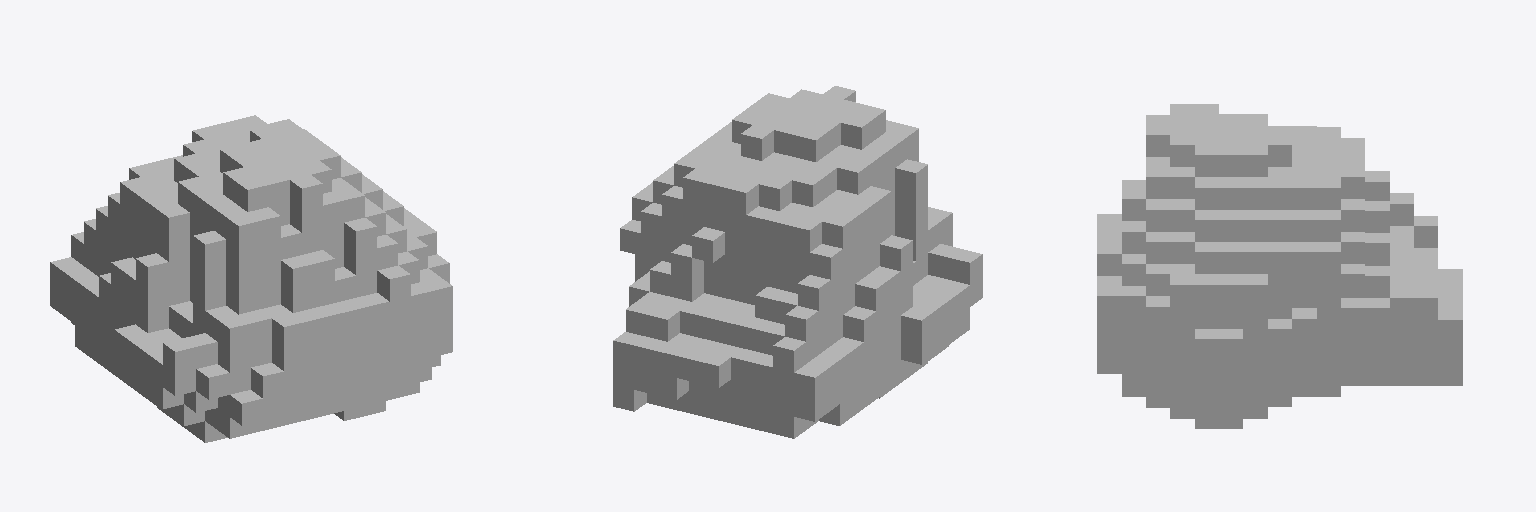
The model's file is Arbusto.obj.
The picture shows the model from 3 angles: view 1: azimuth 30°, elevation 25°; view 2: azimuth 150°, elevation 25°; view 3: azimuth 270°, elevation 25°; orthographic projection.
Visible parts, largest first — view 1: Sphere_Sphere.001; view 2: Sphere_Sphere.001; view 3: Sphere_Sphere.001.
Part boxes in pixels (left/top/right/bottom): Sphere_Sphere.001: left=50, top=115, right=452, bottom=442; Sphere_Sphere.001: left=613, top=86, right=982, bottom=438; Sphere_Sphere.001: left=1097, top=104, right=1462, bottom=428.
Size of the model in its own units: 3.24 by 2.54 by 3.47.